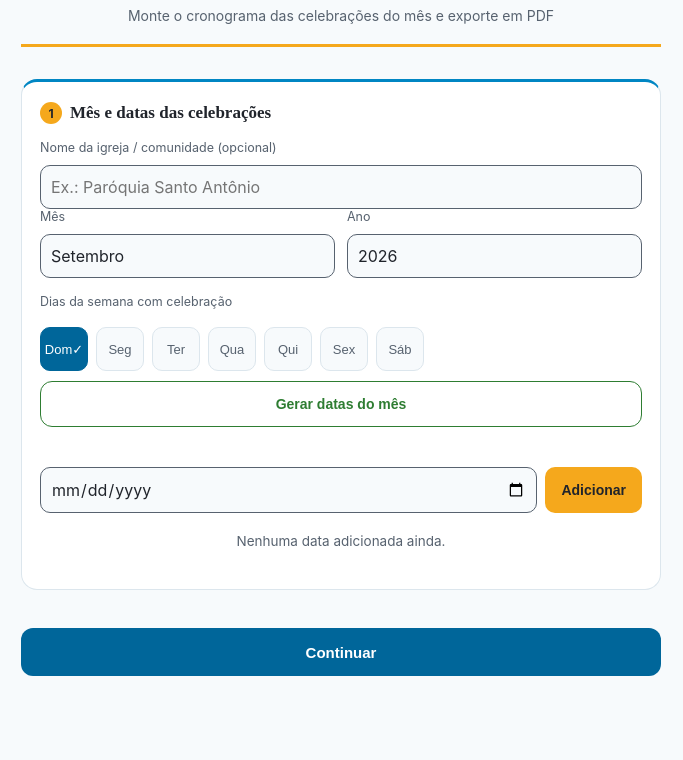
App — step-by-step wizard › lets the user go back a step with Voltar
(page scrolled)
Click the button "Continuar": (341, 652) [21,628,661,676]
(page scrolled)
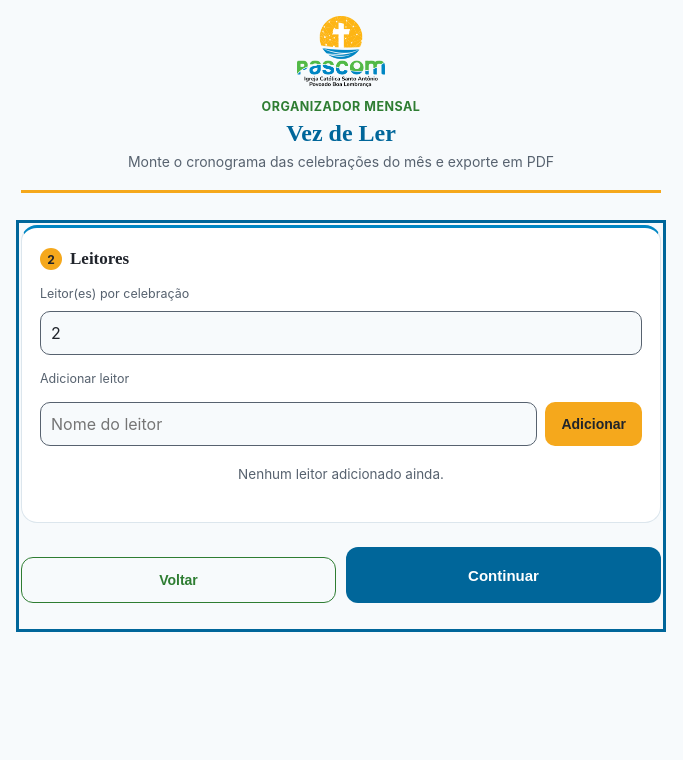
Check: the field labelled "Adicionar leitor" is shown, box [40,402,537,446]
Click the button "Voltar": (178, 580) [21,557,336,603]
(page scrolled)
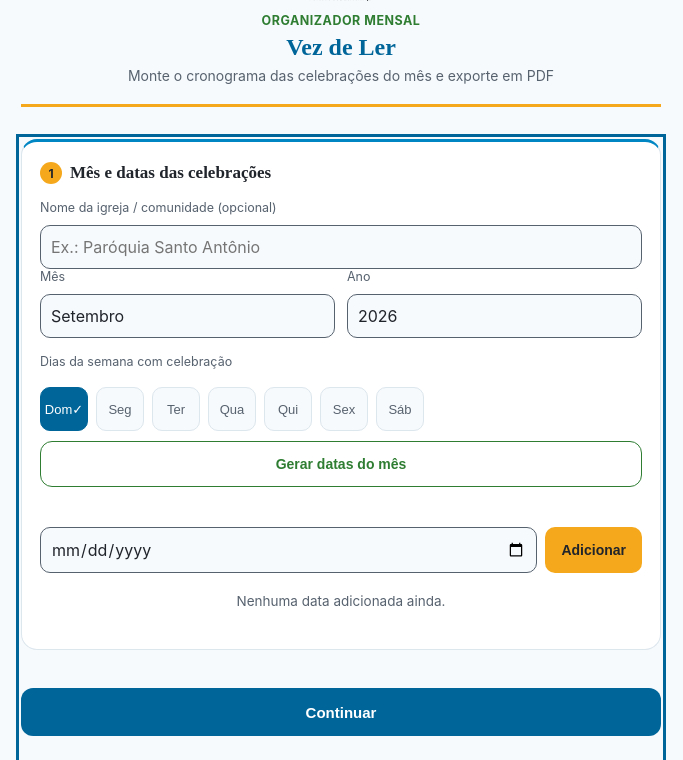
Check: the field labelled "Nome da igreja / comunidade (opcional)" is shown, box [40,225,642,269]
Check: the label labelled "Adicionar leitor" is gone
